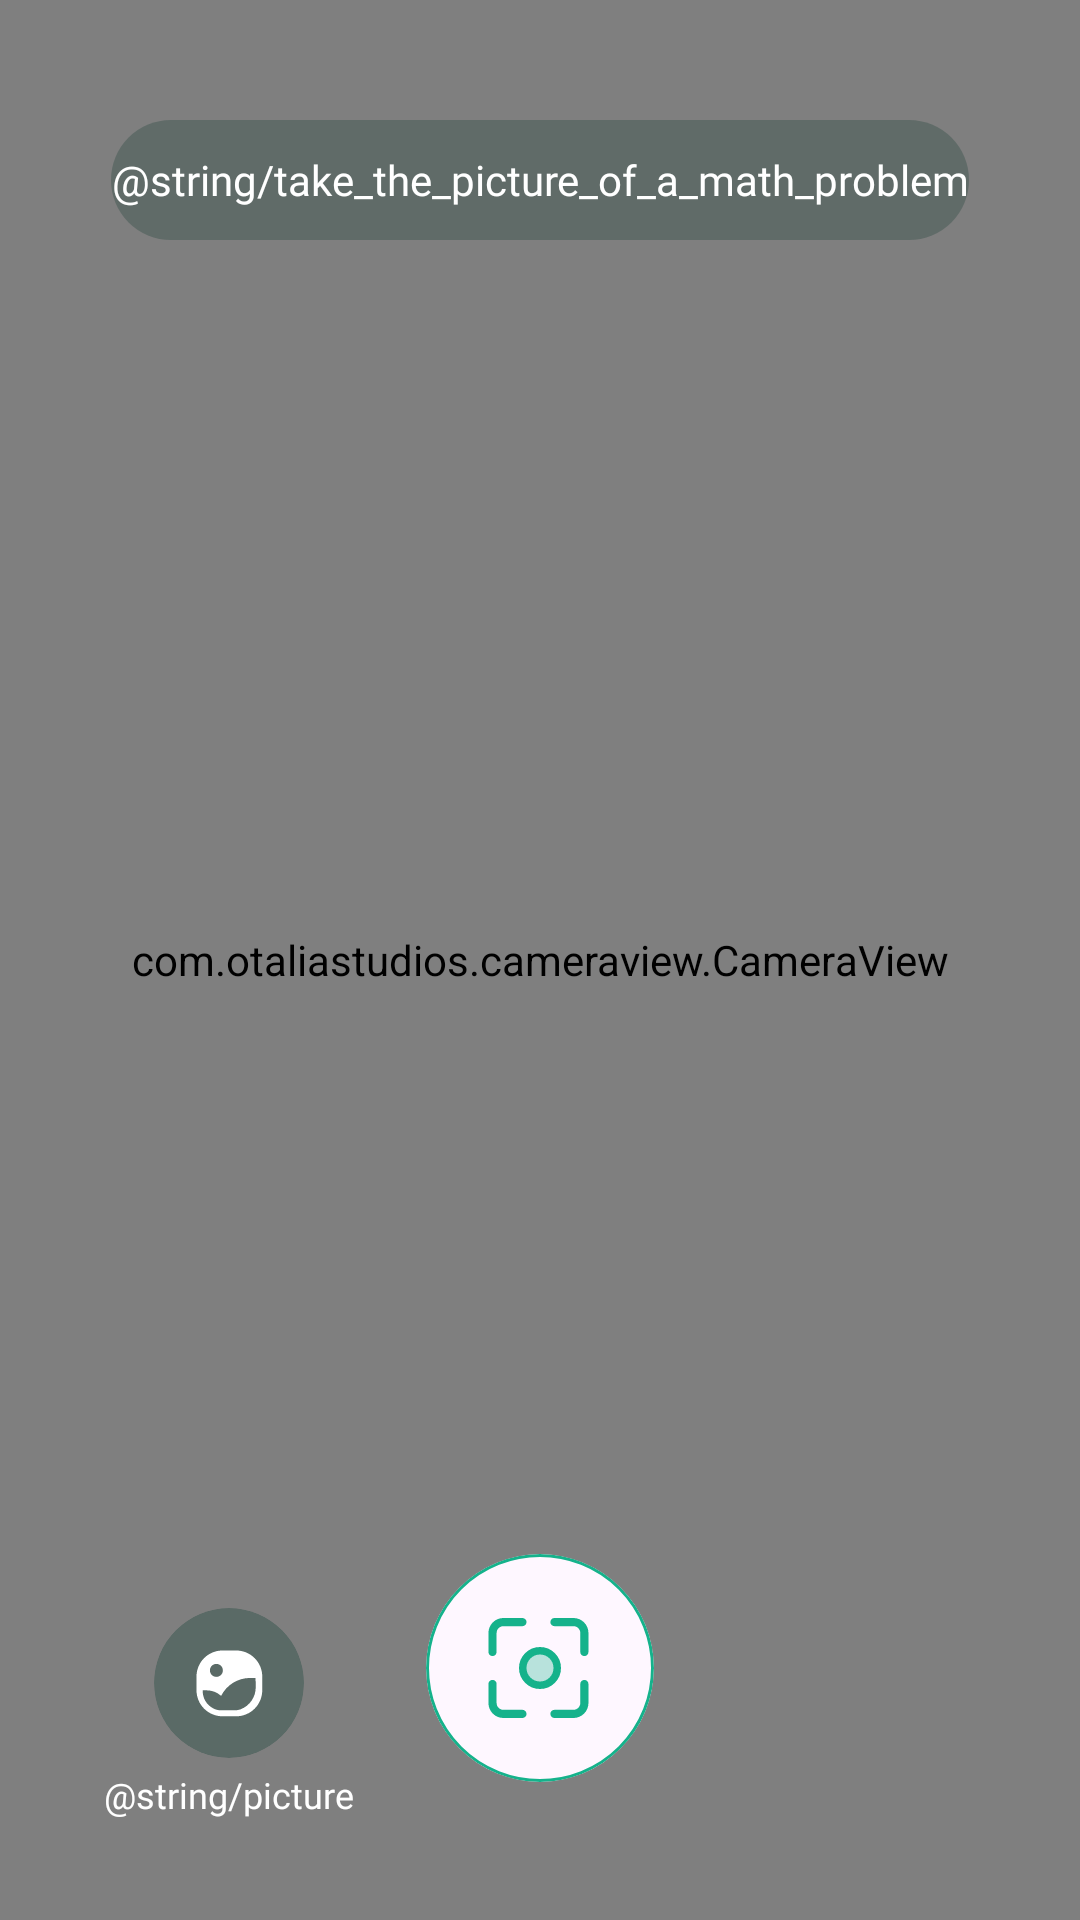

Where to tap for icons on this 1080 × 1920 app screen, as (x=x, y=y):
gallery: (x=229, y=1683)
scan solve camera: (x=538, y=1668)
